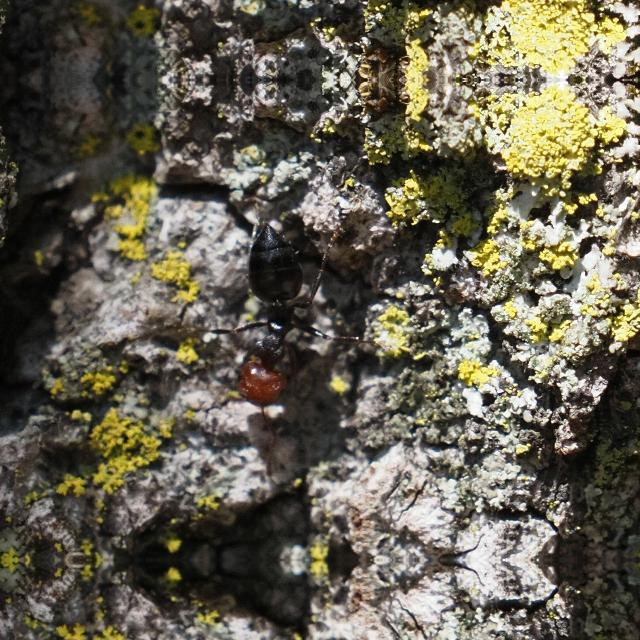Crematogaster: (196, 225, 344, 408)
